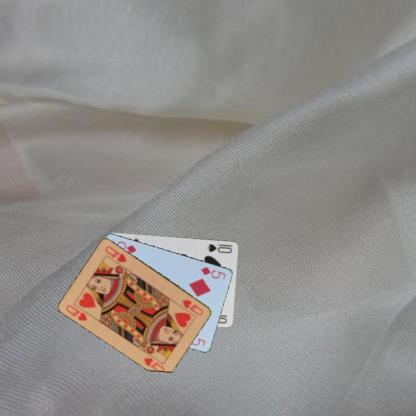10s: (205, 241, 234, 254)
5d: (198, 264, 227, 281)
Qh: (180, 297, 205, 317), (63, 302, 88, 322)
